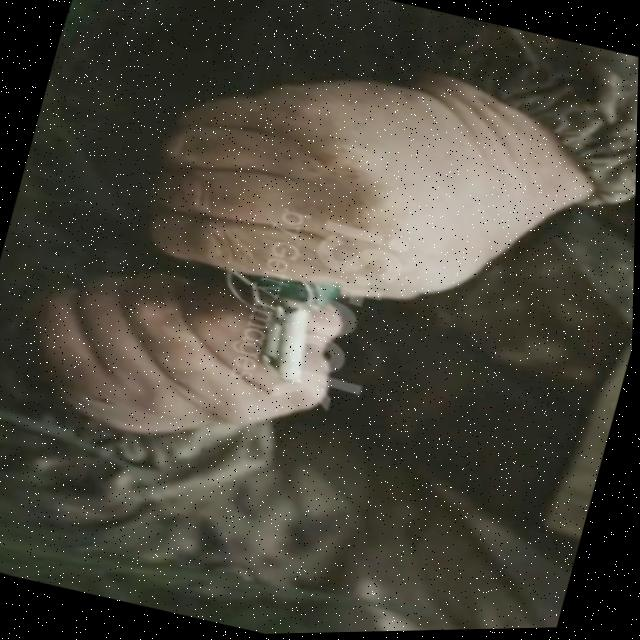grenade: (210, 254, 373, 399)
